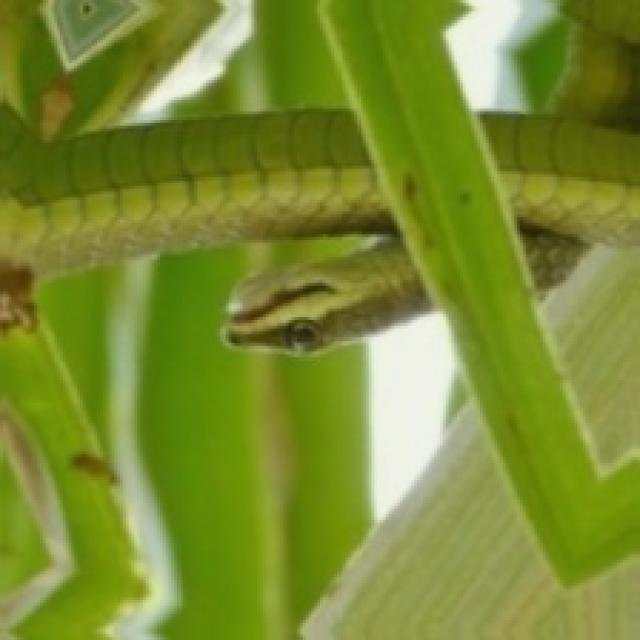paradise tree snake: (0, 0, 394, 271), (480, 0, 637, 289), (480, 0, 637, 277), (226, 234, 429, 351), (229, 243, 423, 349)
